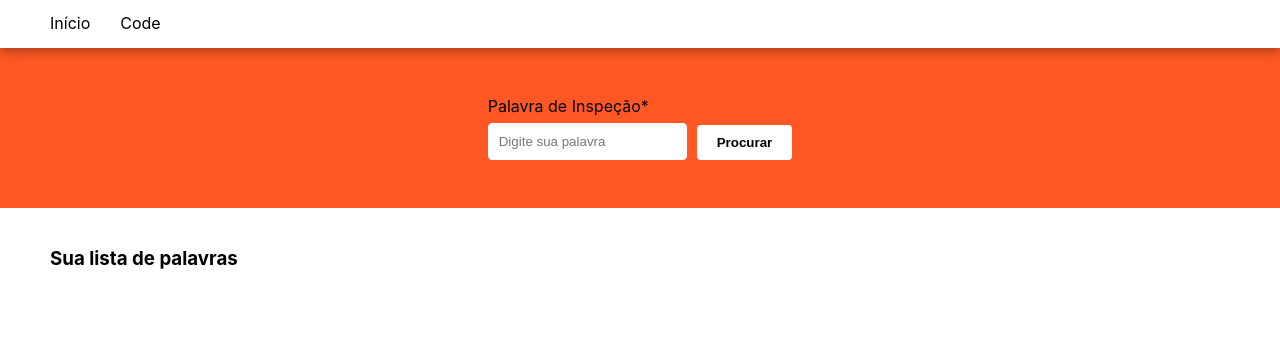
Test case: <SearchRequest /> test suite › should add word to the inspection list with the inspection form
Type "security" into the field labelled "Palavra de Inspeção*" at x=587, y=142, box [488,123,687,160]
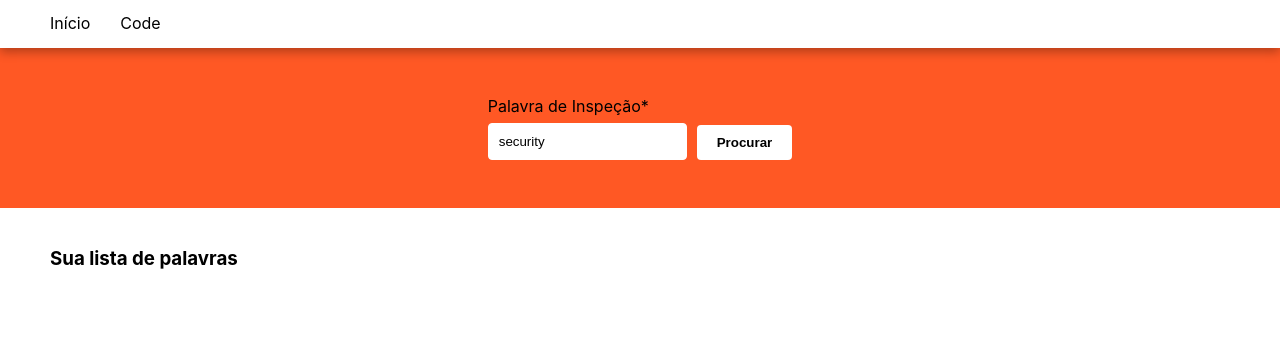
Click the button "Procurar" at x=744, y=142, box [697,125,792,160]
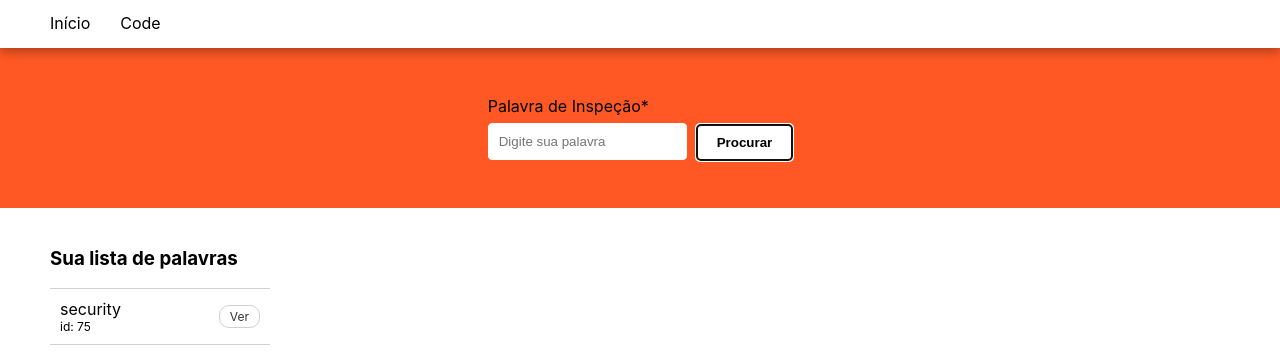
Expected: the text "Palavra de Inspeção*" is shown, [488,96,649,116]
Now the text "security" is shown, box [60,299,121,319]
